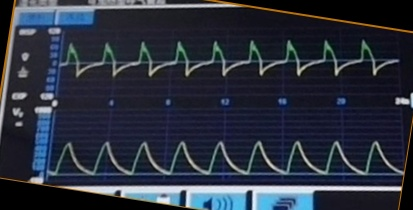Accumulation Flow: (64, 31, 392, 95)
Volume: (53, 122, 398, 184)
